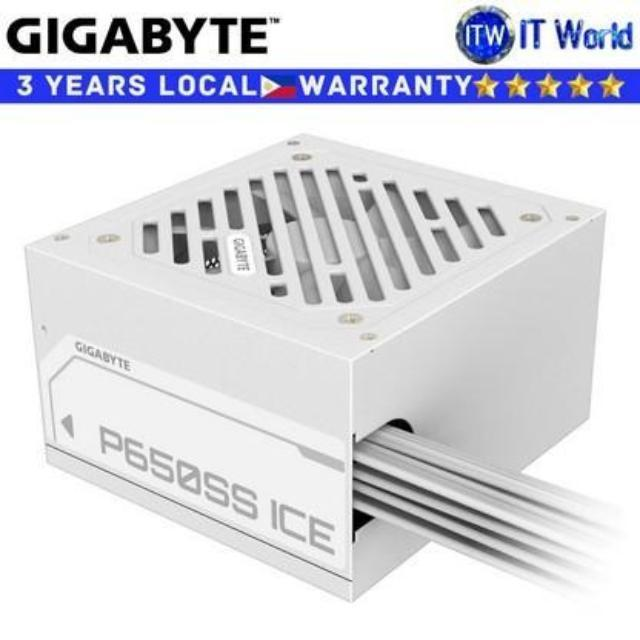PSU: (14, 128, 606, 590)
